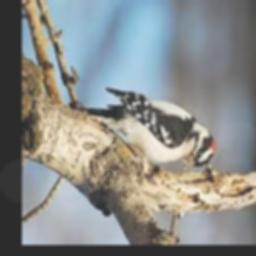Woodpecker: (69, 88, 214, 173)
